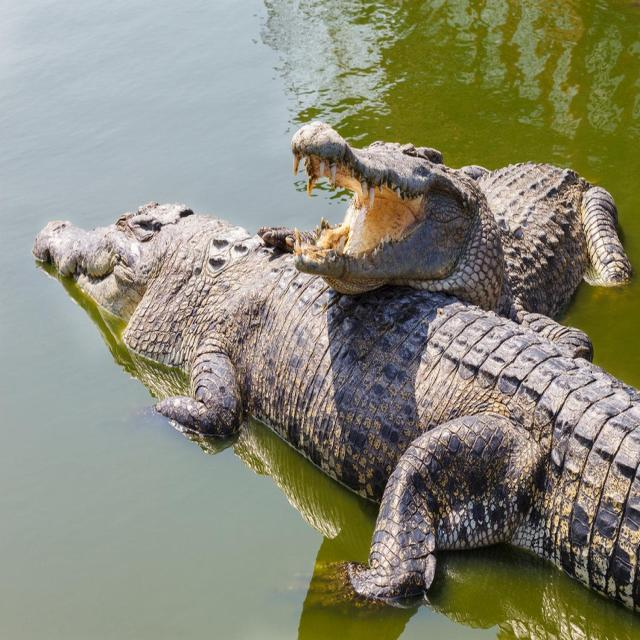crocodile: (30, 120, 640, 619)
